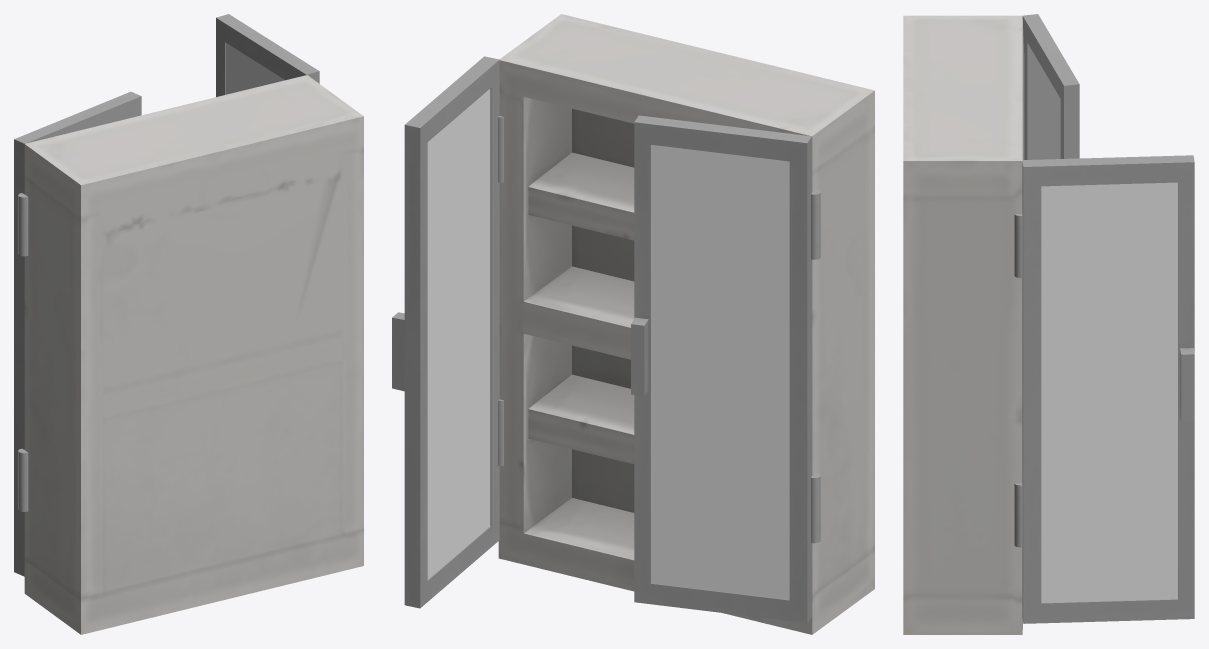
Rendered from Pfb_Indoors_Study_Shelf_JLAB04__9.fbx.
The picture shows the model from 3 angles, left to right: view 1: azimuth 30°, elevation 25°; view 2: azimuth 150°, elevation 25°; view 3: azimuth 270°, elevation 25°; orthographic projection. The views are drawn at different scales.
Parts seen in each view (by area): view 1: Mat_Indoors_Study_01_2_JLAB, MAT_Shop_Refridge_01_JLAB, Mat_Tile_Color_08 3; view 2: Mat_Indoors_Study_01_2_JLAB, Mat_Tile_Color_08 3, MAT_Shop_Refridge_01_JLAB; view 3: Mat_Indoors_Study_01_2_JLAB, Mat_Tile_Color_08 3, MAT_Shop_Refridge_01_JLAB.
Boxes of the visible parts, <box> form: Mat_Indoors_Study_01_2_JLAB: <box>24,75,363,634</box>; MAT_Shop_Refridge_01_JLAB: <box>14,14,319,576</box>; Mat_Tile_Color_08 3: <box>225,43,284,94</box>; Mat_Indoors_Study_01_2_JLAB: <box>498,14,874,634</box>; Mat_Tile_Color_08 3: <box>427,89,789,599</box>; MAT_Shop_Refridge_01_JLAB: <box>392,56,820,622</box>; Mat_Indoors_Study_01_2_JLAB: <box>903,15,1024,634</box>; Mat_Tile_Color_08 3: <box>1028,44,1177,602</box>; MAT_Shop_Refridge_01_JLAB: <box>1014,14,1194,623</box>.
Bounding box in the file's own units: 1.9 × 2.69 × 1.5.
Materials: 3 (3 with a texture image).
